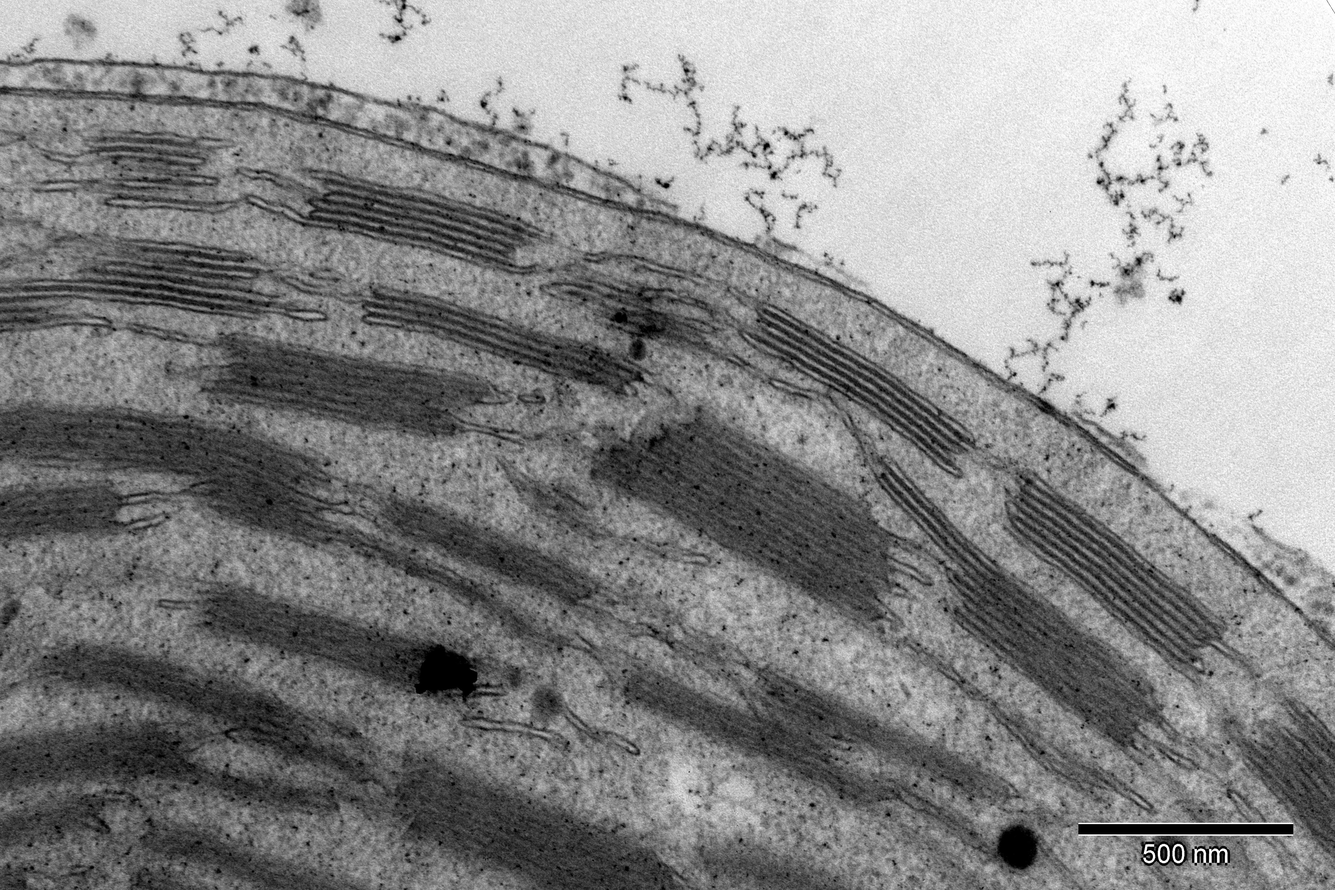granum: (869, 459, 1178, 758), (583, 401, 900, 639), (615, 656, 1023, 818), (0, 395, 361, 567), (997, 465, 1233, 682), (387, 736, 703, 890), (40, 631, 351, 781), (731, 295, 981, 476), (187, 578, 476, 706), (0, 709, 339, 818), (357, 279, 654, 402), (194, 327, 496, 443), (371, 484, 605, 623), (303, 166, 543, 280), (133, 808, 397, 890), (62, 230, 278, 323), (1236, 700, 1335, 870), (552, 259, 719, 357), (76, 124, 209, 216), (0, 476, 127, 554), (691, 830, 856, 890), (0, 789, 115, 855), (516, 475, 600, 546), (0, 274, 70, 336), (126, 855, 230, 890), (0, 855, 36, 890)
